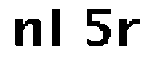5: (78, 5, 115, 49)
l: (47, 4, 68, 51)
n: (9, 15, 41, 51)
r: (118, 16, 143, 50)
